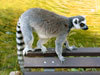cat: (8, 6, 91, 70)
